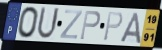A: (119, 12, 142, 45)
O: (17, 6, 40, 40)
P: (79, 10, 102, 42), (102, 11, 124, 43)
U: (35, 6, 61, 41)
Z: (58, 9, 84, 40)
